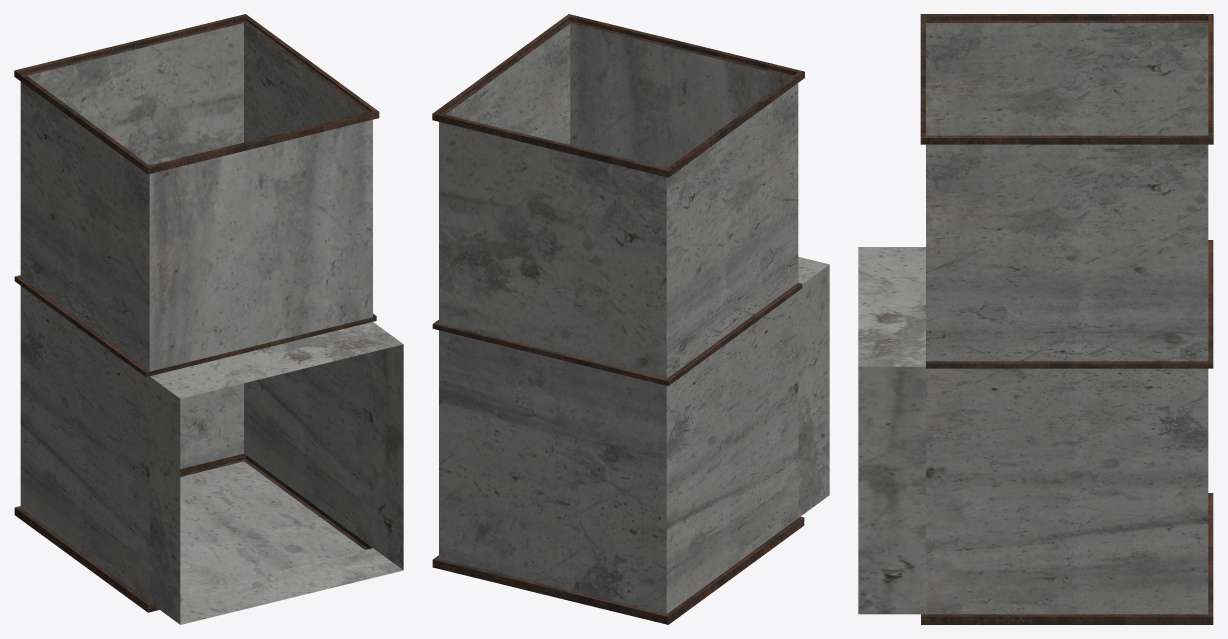
File: Roof_S06.fbx
3 views of the same model, side by side, from view 1: azimuth 30°, elevation 25°; view 2: azimuth 150°, elevation 25°; view 3: azimuth 270°, elevation 25° (orthographic). The views are drawn at different scales.
Visible parts, largest first — view 1: Rf_01 (3); view 2: Rf_01 (3); view 3: Rf_01 (3).
Part boxes in pixels (box(x1,y1,x2,y2)): Rf_01 (3): box(14, 14, 403, 624); Rf_01 (3): box(432, 14, 829, 624); Rf_01 (3): box(858, 14, 1213, 624).
Bounding box in the file's own units: 78.2 × 143 × 94.8.
